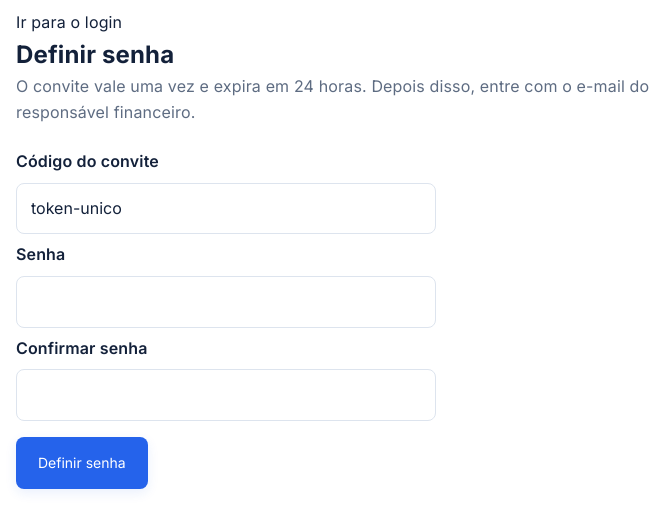
Scenario: link token is sent with the new password
The image size is (666, 510).
Expected: the field labelled "Código do convite" holds "token-unico", [16,183,436,234]
Type "senha123" into the password field labelled "Senha". click: [226, 302]
box: [16,276,436,328]
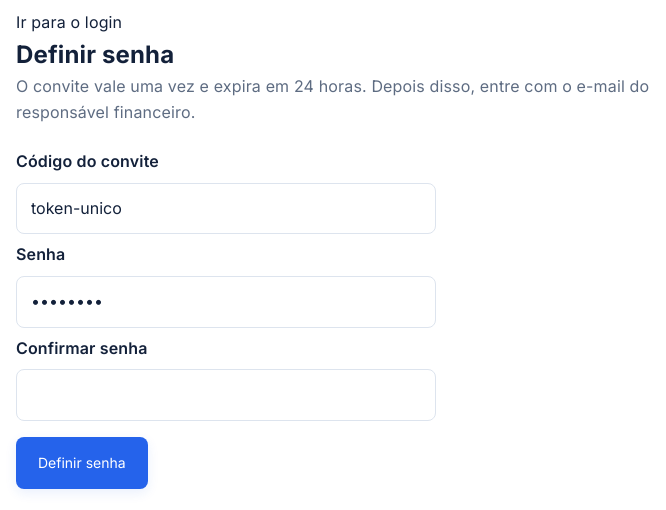
Type "senha123" into the password field labelled "Confirmar senha". click: [226, 395]
box: [16,369,436,421]
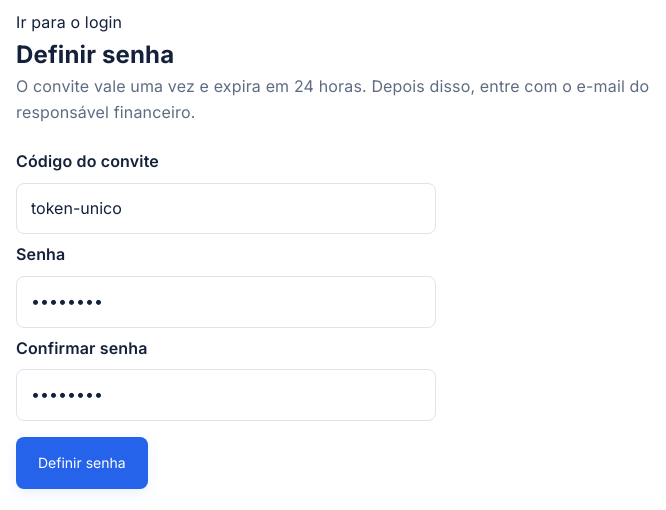
Click the button "Definir senha". click: [82, 463]
box: [16,437,148,489]
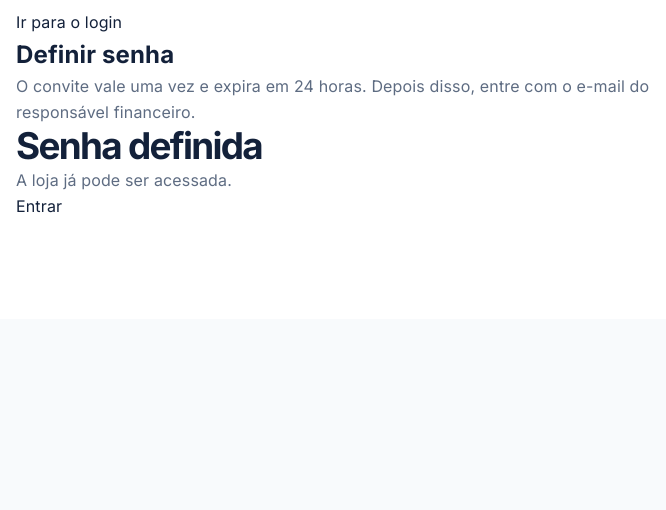
Expected: the heading "Senha definida" is shown, [16,123,262,168]
